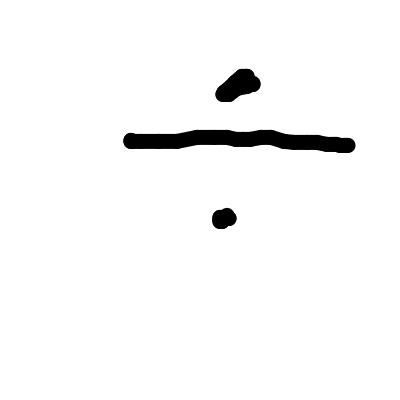div: (122, 68, 356, 234)
